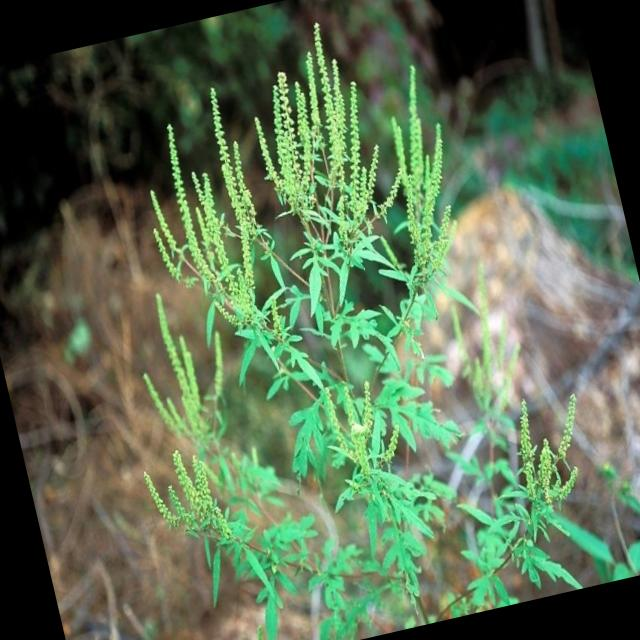ambrosia: (120, 84, 298, 356), (236, 18, 398, 264), (354, 52, 482, 320), (114, 276, 262, 486), (106, 420, 266, 612), (464, 361, 614, 529), (295, 356, 432, 524)
